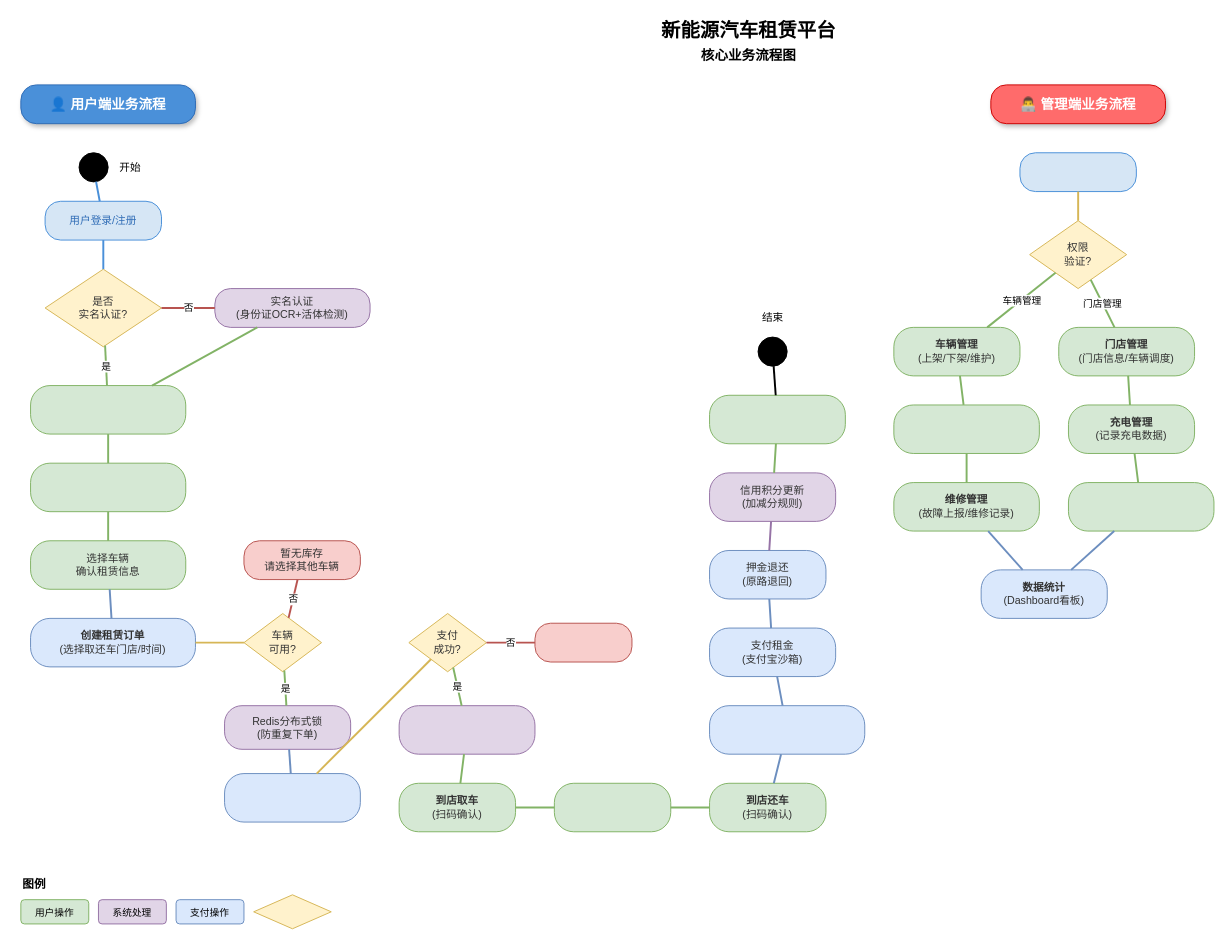
The diagram is 1231 pixels wide and 946 high, and some of its shapes have lost their labels. Here are the shapes that lost their labels. From the top down, the centre of each, then its label:
At point (1077, 172): "管理员登录 (JWT认证)".
At point (108, 409): "浏览/搜索车辆 (品牌/价格/类型筛选)".
At point (777, 419): "订单完成 (可查看历史订单)".
At point (966, 428): "订单管理 (审核/退款/状态变更)".
At point (108, 487): "查看车辆详情 (图片/配置/价格/门店)".
At point (1140, 506): "用户管理 (实名审核/信用管理)".
At point (583, 642): "支付失败 返回重试".
At point (466, 729): "订单状态机 (9种状态×9种事件)".
At point (787, 729): "费用结算 (租金+超时费+充电费)".
At point (292, 797): "支付押金 (支付宝沙箱支付)".
At point (612, 807): "使用中 (充电/报修可选)".
At point (292, 911): "判断条件".
